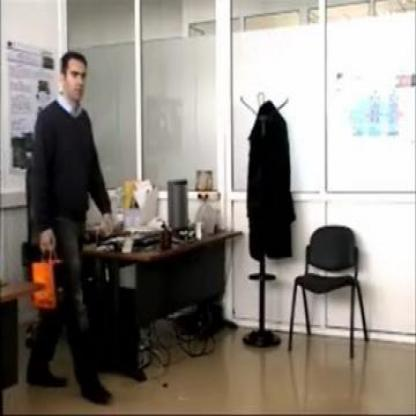other: (26, 250, 58, 310)
